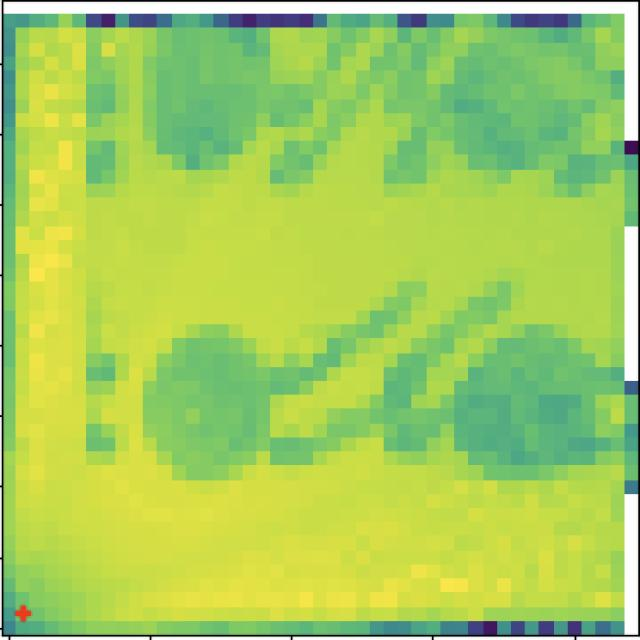Concrete: (125, 31, 272, 188)
Glass: (452, 290, 618, 514)
Metal: (142, 303, 293, 496)
Wood: (442, 32, 618, 200)
